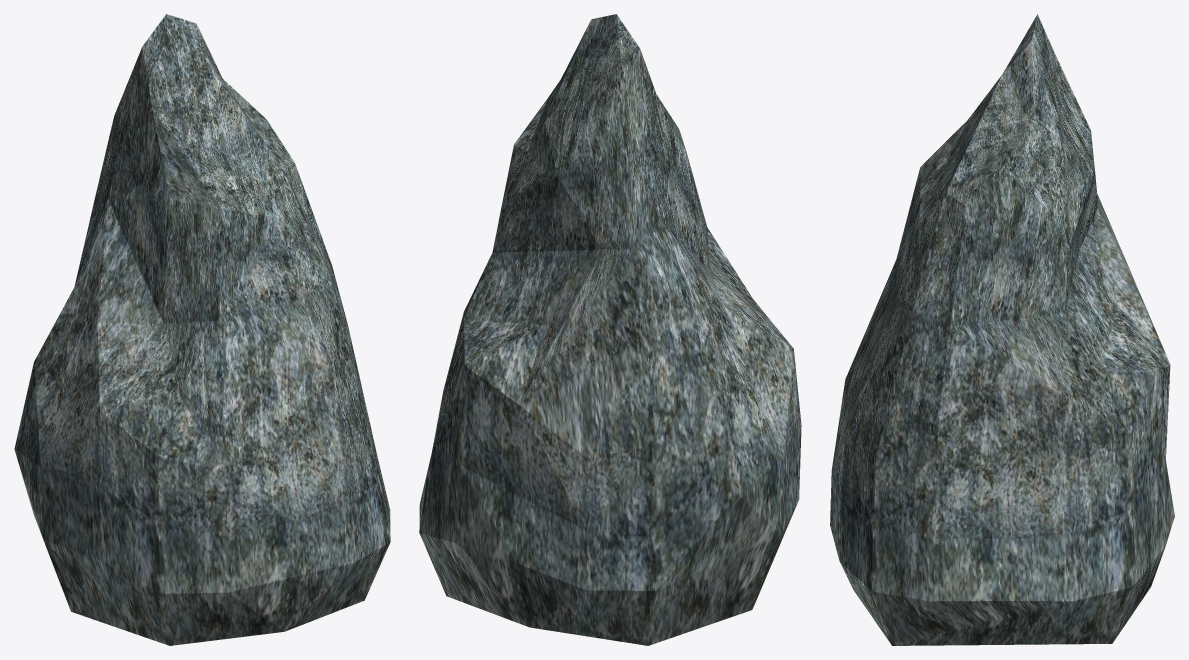
Rendered from rock_dath_desertcanyon_md_l0.fbx.
3 views of the same model, side by side, from view 1: azimuth 30°, elevation 25°; view 2: azimuth 150°, elevation 25°; view 3: azimuth 270°, elevation 25° (orthographic). The views are drawn at different scales.
Parts seen in each view (by area): view 1: mesh_node; view 2: mesh_node; view 3: mesh_node.
Boxes of the visible parts, x1,y1,x2,y2 form: mesh_node: (14, 14, 390, 645); mesh_node: (419, 14, 801, 645); mesh_node: (830, 14, 1174, 645).
Size of the model in its own units: 4.82 by 8.68 by 4.43.
